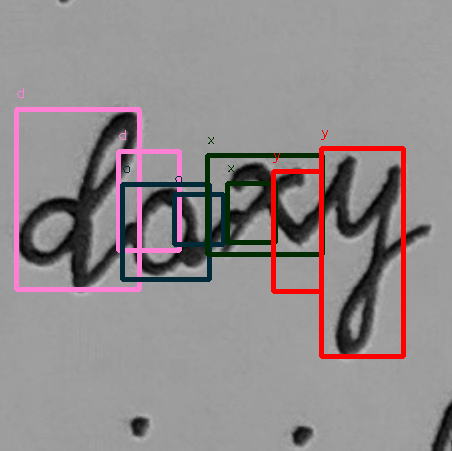d: (15, 105, 143, 296)
o: (125, 179, 203, 282)
x: (212, 154, 312, 260)
y: (318, 148, 405, 361)
